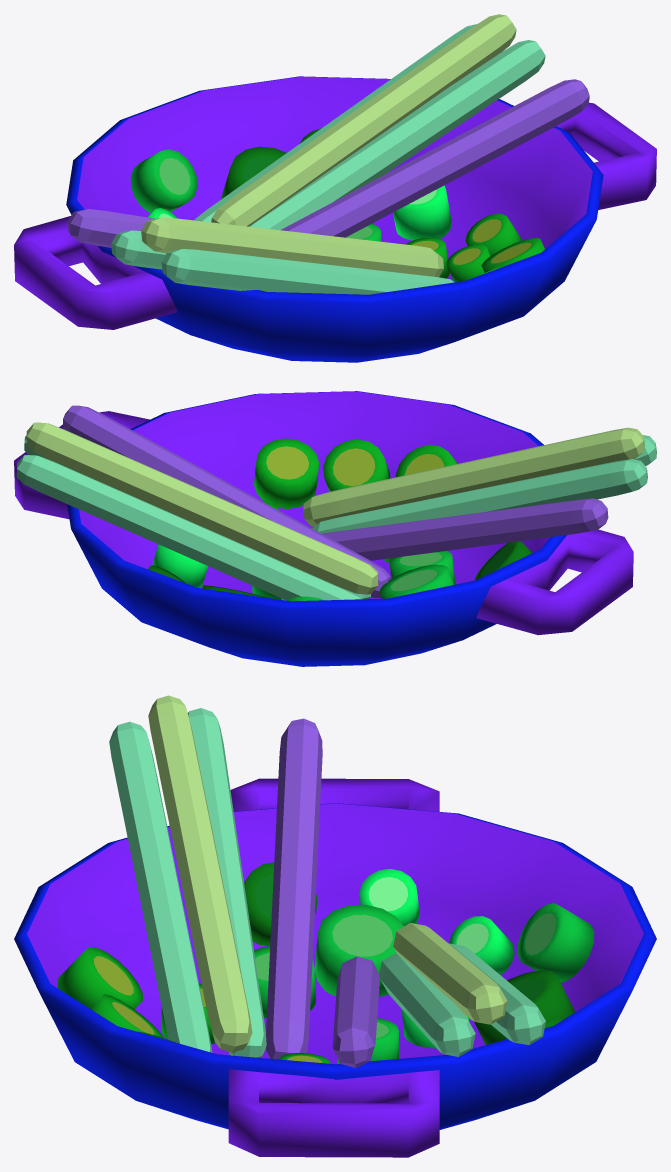
The model's file is wok_uncooked_bami.fbx.
3 renders of one model, top to bottom at view 1: azimuth 30°, elevation 25°; view 2: azimuth 150°, elevation 25°; view 3: azimuth 270°, elevation 25°, orthographic. The views are drawn at different scales.
Visible parts, largest first — view 1: WokBami, Noodle Uncooked 02, Noodle Uncooked 01, Leek Chopped, Carrot Chopped; view 2: WokBami, Noodle Uncooked 02, Noodle Uncooked 01, Carrot Chopped, Leek Chopped; view 3: WokBami, Noodle Uncooked 01, Leek Chopped, Noodle Uncooked 02, Carrot Chopped.
Boxes of the visible parts, bbox=[...] form: WokBami: bbox=[14, 76, 656, 362]; Noodle Uncooked 02: bbox=[194, 14, 589, 237]; Noodle Uncooked 01: bbox=[68, 209, 454, 294]; Leek Chopped: bbox=[130, 128, 451, 241]; Carrot Chopped: bbox=[406, 213, 544, 282]; WokBami: bbox=[14, 391, 633, 666]; Noodle Uncooked 02: bbox=[16, 405, 390, 600]; Noodle Uncooked 01: bbox=[303, 427, 656, 560]; Carrot Chopped: bbox=[254, 438, 457, 562]; Leek Chopped: bbox=[148, 541, 532, 601]; WokBami: bbox=[14, 778, 656, 1157]; Noodle Uncooked 01: bbox=[109, 695, 322, 1059]; Leek Chopped: bbox=[244, 862, 594, 1063]; Noodle Uncooked 02: bbox=[332, 923, 545, 1067]; Carrot Chopped: bbox=[57, 947, 330, 1063].
Size of the model in its own units: 54.02 by 66.75 by 21.13.
